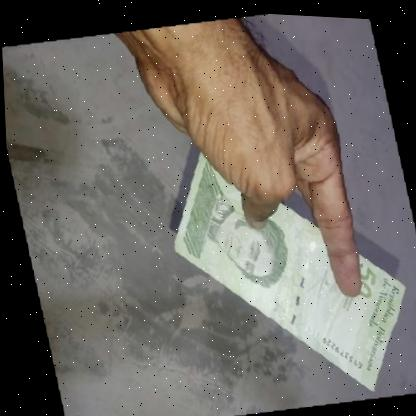fifty-front-vef: (156, 125, 416, 408)
